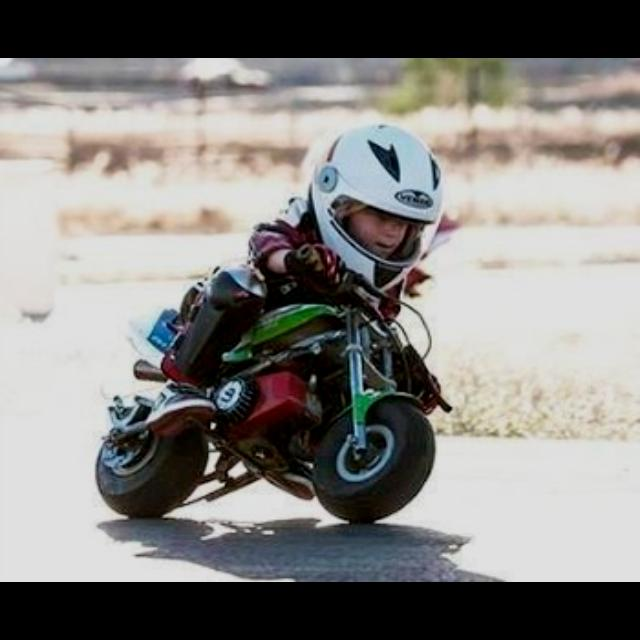With Helmet: (312, 105, 446, 288)
